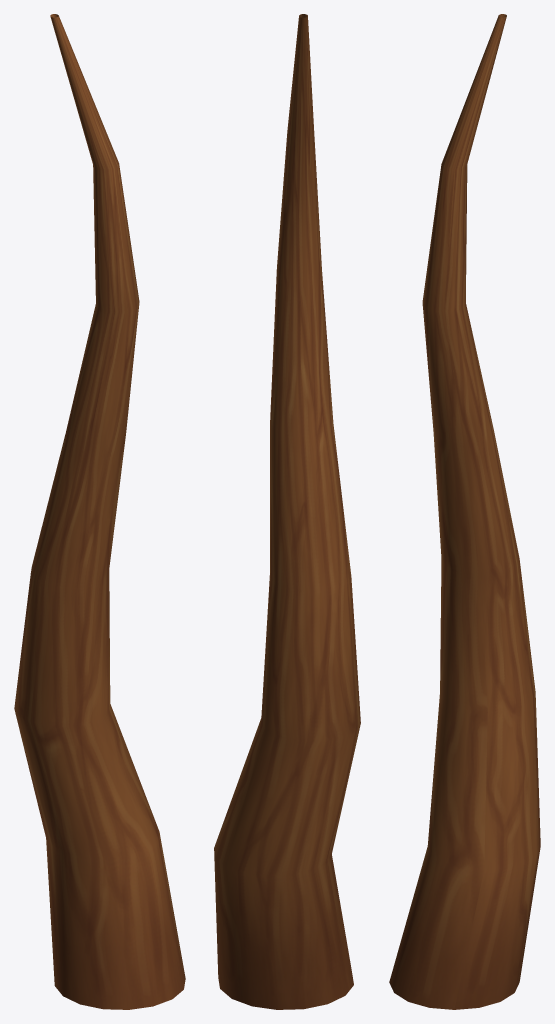
Rendered from Pine - Wood #2.fbx.
3 views of the same model, side by side, from view 1: azimuth 30°, elevation 25°; view 2: azimuth 150°, elevation 25°; view 3: azimuth 270°, elevation 25° (orthographic). The views are drawn at different scales.
Visible parts, largest first — view 1: Pine - Wood #2; view 2: Pine - Wood #2; view 3: Pine - Wood #2.
Part boxes in pixels (<box>): Pine - Wood #2: <box>14,14,185,1009</box>; Pine - Wood #2: <box>214,14,360,1009</box>; Pine - Wood #2: <box>389,14,540,1009</box>.
Size of the model in its own units: 78.24 by 512 by 74.21.
Materials: 1 (1 with a texture image).
